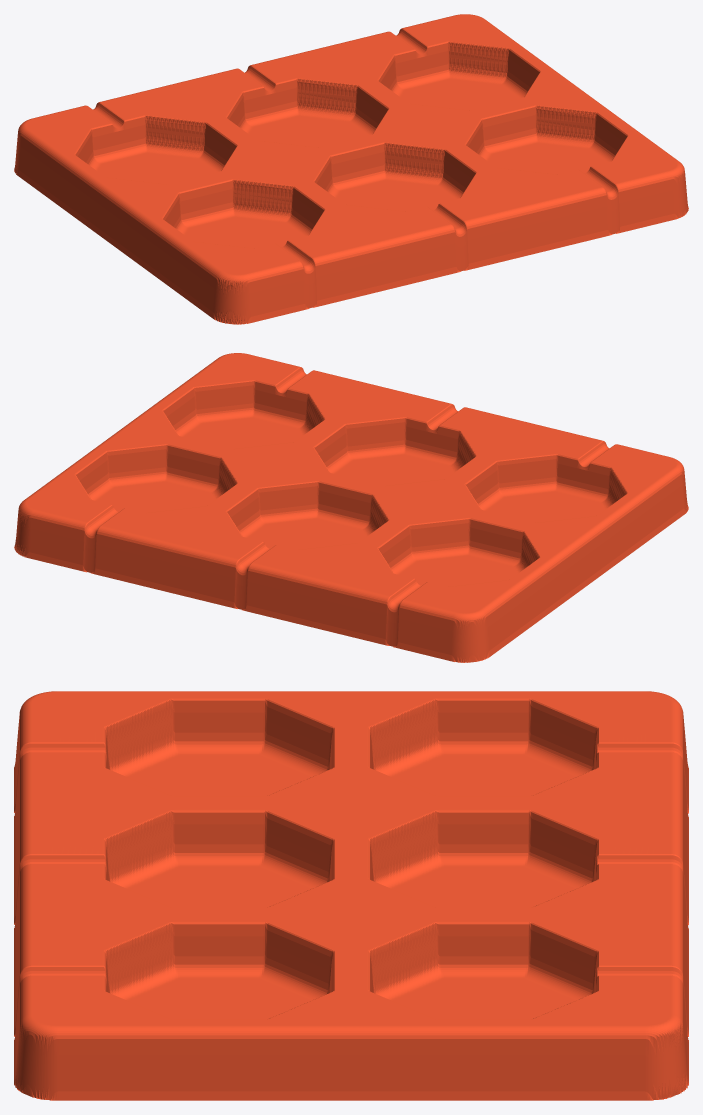
File: mold.glb
3 renders of one model, top to bottom at view 1: azimuth 30°, elevation 25°; view 2: azimuth 150°, elevation 25°; view 3: azimuth 270°, elevation 25°, orthographic. The views are drawn at different scales.
Visible parts, largest first — view 1: geometry_0; view 2: geometry_0; view 3: geometry_0.
Boxes of the visible parts, <box> form: geometry_0: <box>14,14,688,324</box>; geometry_0: <box>14,353,688,662</box>; geometry_0: <box>14,691,688,1100</box>.
Bounding box in the file's own units: 0.1714 × 0.0155 × 0.1403.
